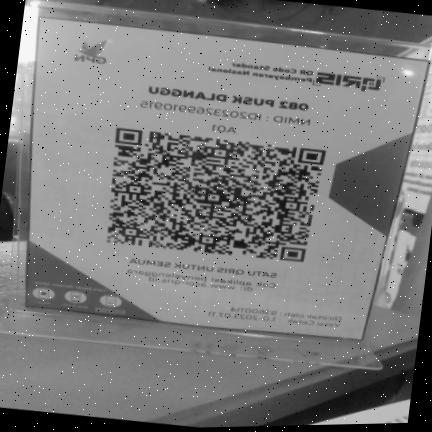Qris-Positioning: (26, 18, 426, 338)
